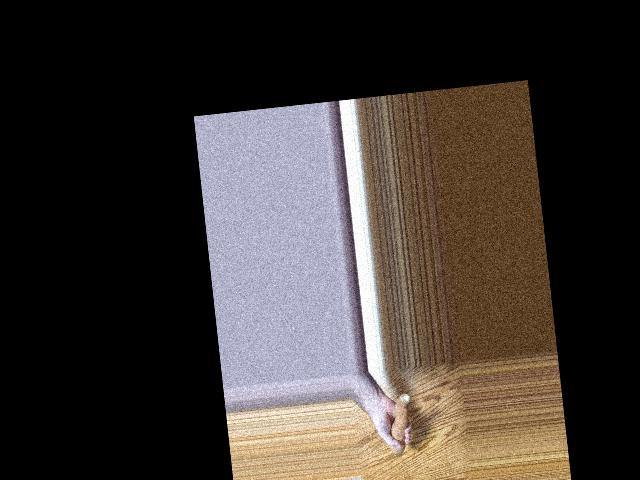sweet_potato: (381, 388, 412, 451)
